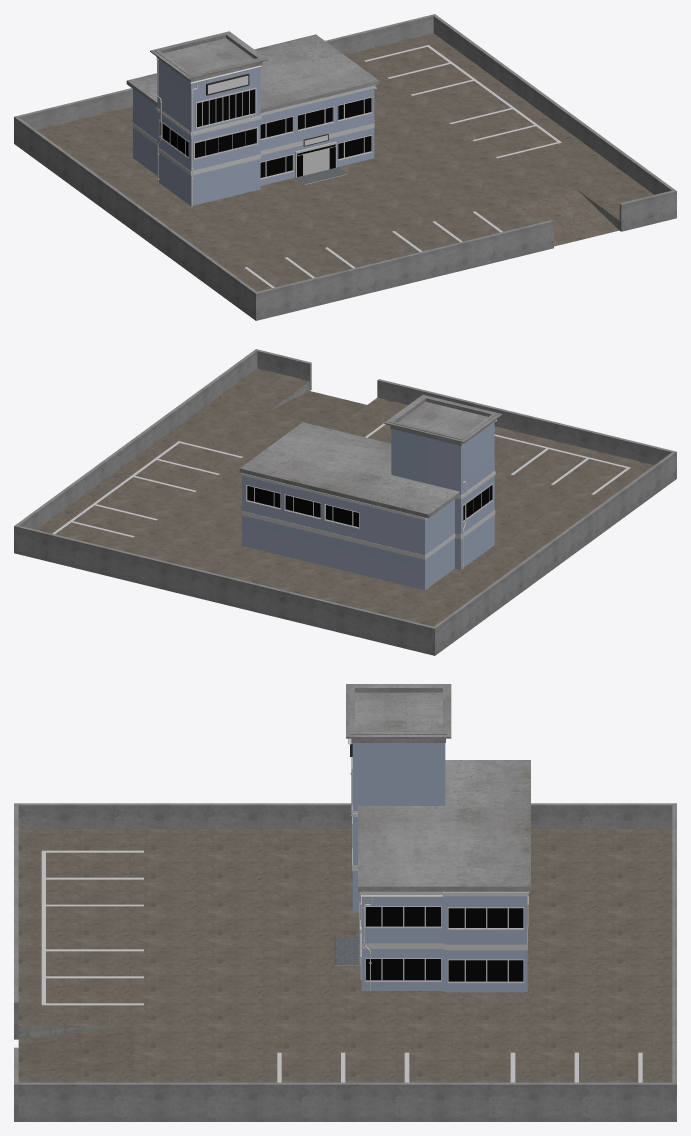
The picture shows the model from 3 angles, top to bottom: view 1: azimuth 30°, elevation 25°; view 2: azimuth 150°, elevation 25°; view 3: azimuth 270°, elevation 25°; orthographic projection. The views are drawn at different scales.
Parts seen in each view (by area): view 1: parking, Police_Station_mesh, SM_parkinglot_01__1_, SM_parkinglot_01; view 2: parking, Police_Station_mesh, SM_parkinglot_01, SM_parkinglot_01_1, SM_parkinglot_01__1_; view 3: parking, Police_Station_mesh, SM_parkinglot_01_1, SM_parkinglot_01__1__1.
Boxes of the visible parts, x1=… form: parking: x1=14, y1=14, x2=676, y2=320; Police_Station_mesh: x1=126, y1=31, x2=379, y2=206; SM_parkinglot_01__1_: x1=364, y1=45, x2=495, y2=95; SM_parkinglot_01: x1=449, y1=94, x2=561, y2=158; parking: x1=14, y1=349, x2=676, y2=655; Police_Station_mesh: x1=239, y1=394, x2=501, y2=590; SM_parkinglot_01: x1=112, y1=441, x2=242, y2=491; SM_parkinglot_01_1: x1=511, y1=439, x2=630, y2=494; SM_parkinglot_01__1_: x1=52, y1=490, x2=157, y2=537; parking: x1=14, y1=803, x2=676, y2=1121; Police_Station_mesh: x1=334, y1=684, x2=530, y2=992; SM_parkinglot_01_1: x1=41, y1=850, x2=143, y2=927; SM_parkinglot_01__1__1: x1=41, y1=928, x2=143, y2=1005.
Size of the model in its own units: 94.3 by 30.16 by 93.89.
